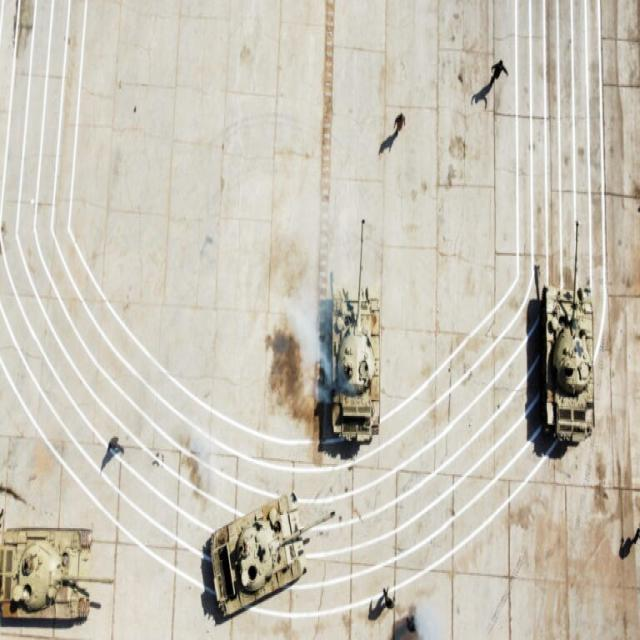tank: (206, 487, 343, 624), (539, 215, 600, 453), (328, 213, 382, 447), (2, 524, 119, 630)
